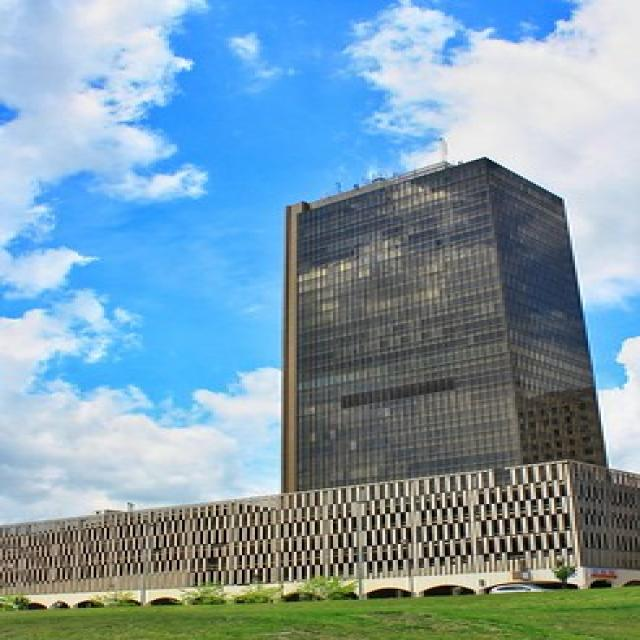building: (269, 153, 623, 556)
